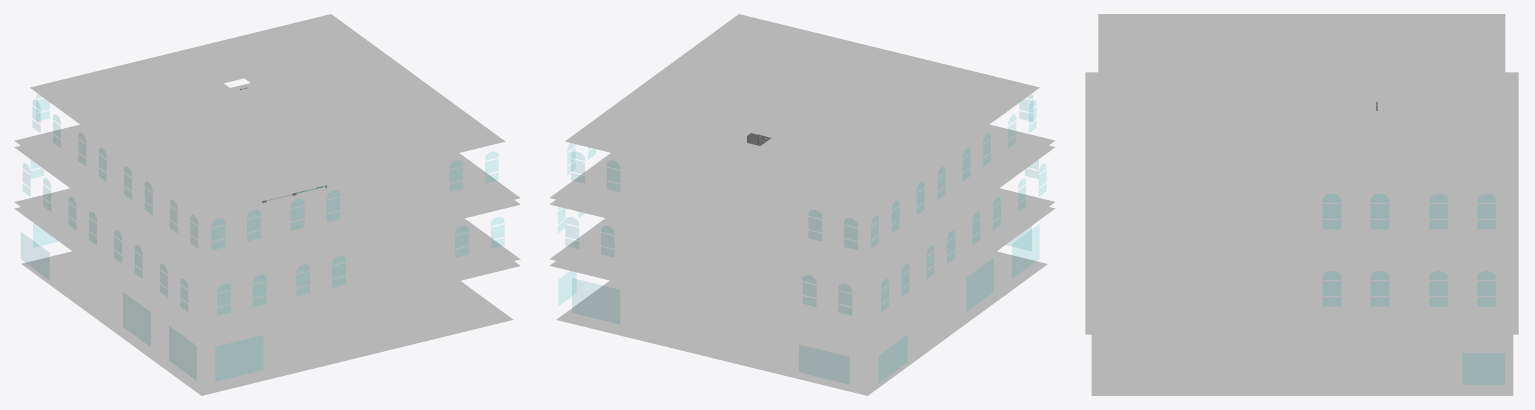
Rendered from Building18_Interior.fbx.
The picture shows the model from 3 angles, left to right: view 1: azimuth 30°, elevation 25°; view 2: azimuth 150°, elevation 25°; view 3: azimuth 270°, elevation 25°; orthographic projection. The views are drawn at different scales.
Visible parts, largest first — view 1: Building18_Interior; view 2: Building18_Interior; view 3: Building18_Interior.
Boxes of the visible parts, left/top/right/bottom form: Building18_Interior: left=14, top=14, right=520, bottom=395; Building18_Interior: left=549, top=14, right=1055, bottom=395; Building18_Interior: left=1085, top=14, right=1518, bottom=395.
Size of the model in its own units: 2237 by 1285 by 2237.
